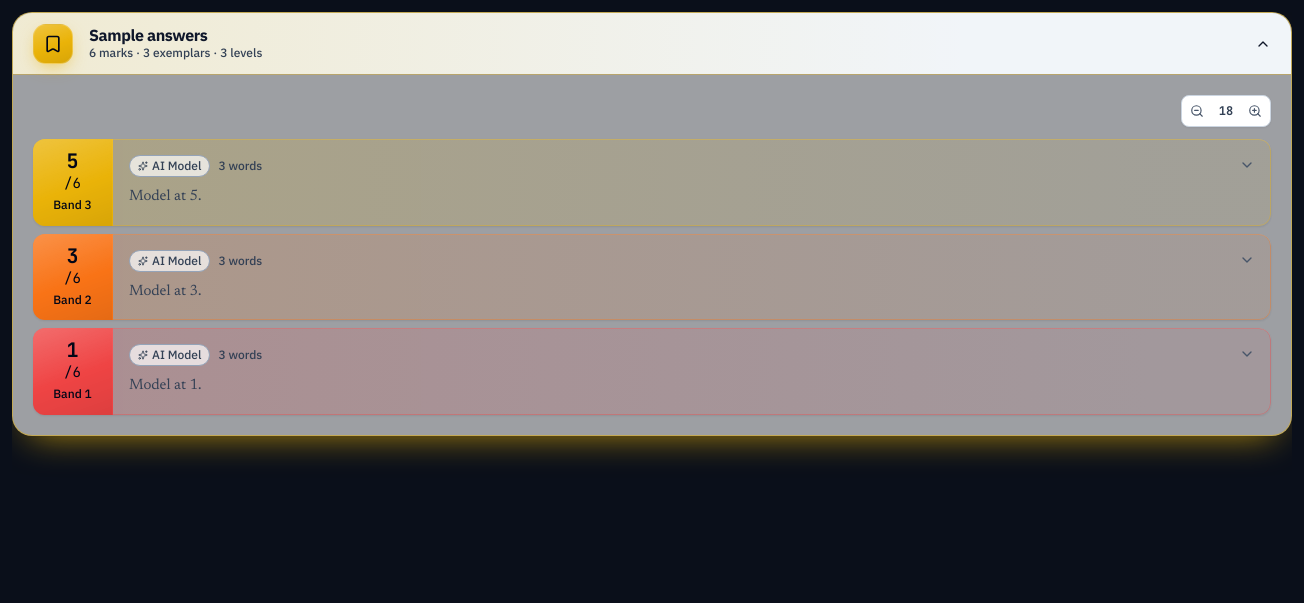
Test case: the Sample Answers gutter on a phone › draws a closed row with the narrow gutter, and an open row with the strip
The width and height of the screenshot is (1304, 603).
Click the button "AI Model 3 words Model at 5.". click: click(180, 166)
box: [113,139,1271,226]
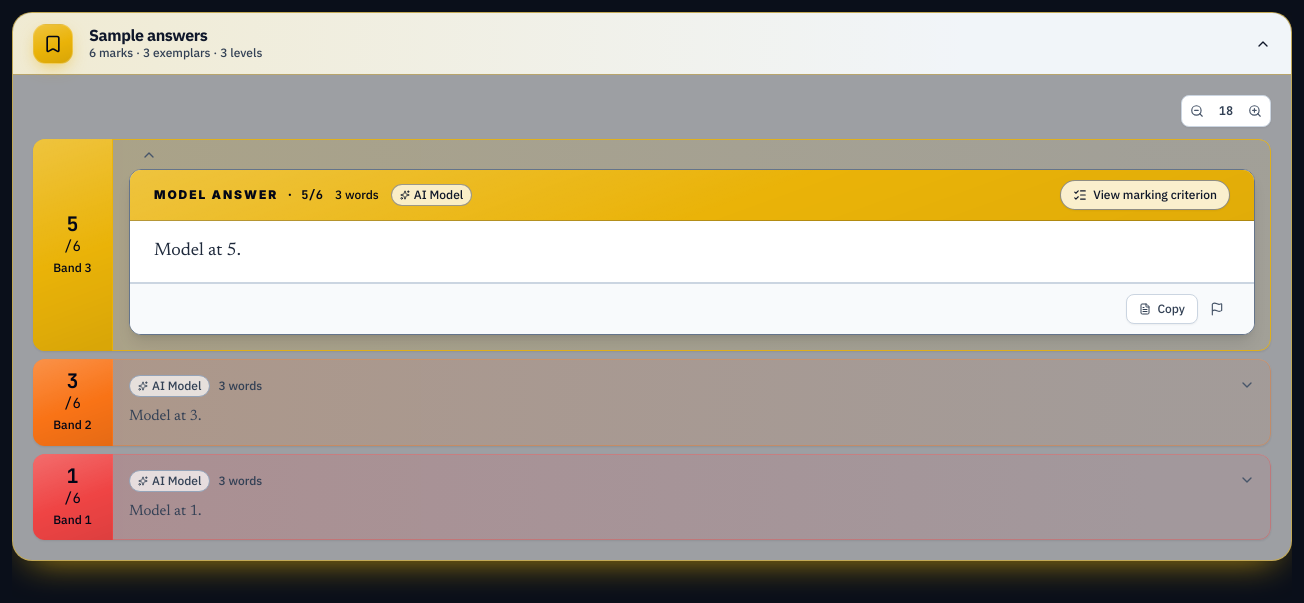
Check: the 4th button is expanded, box [113,139,1271,169]
